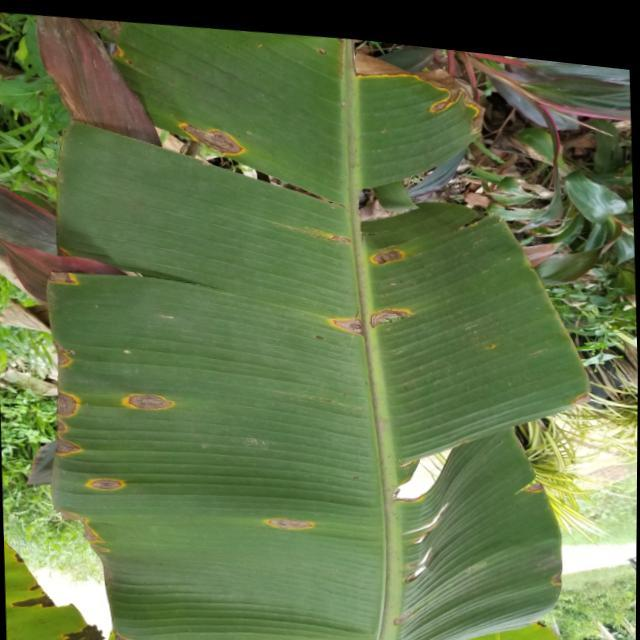Early_rust: (16, 256, 186, 577), (289, 28, 493, 154), (300, 216, 426, 349), (497, 463, 575, 616), (154, 98, 260, 180), (230, 498, 342, 559)
